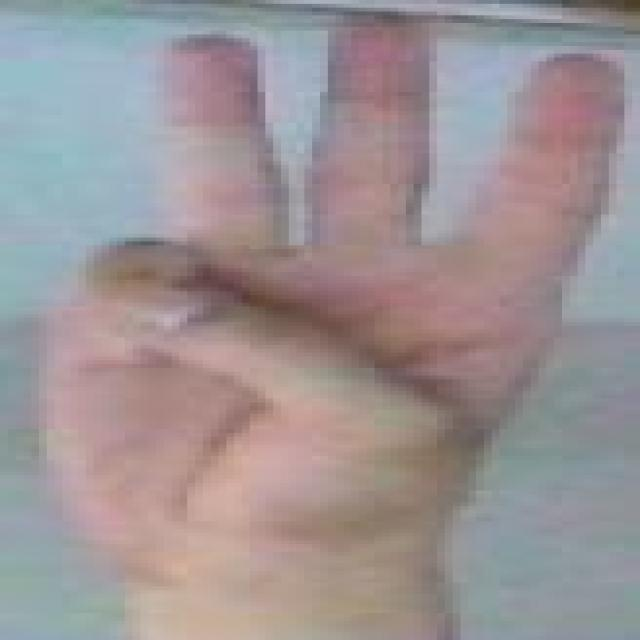W: (15, 7, 640, 594)
